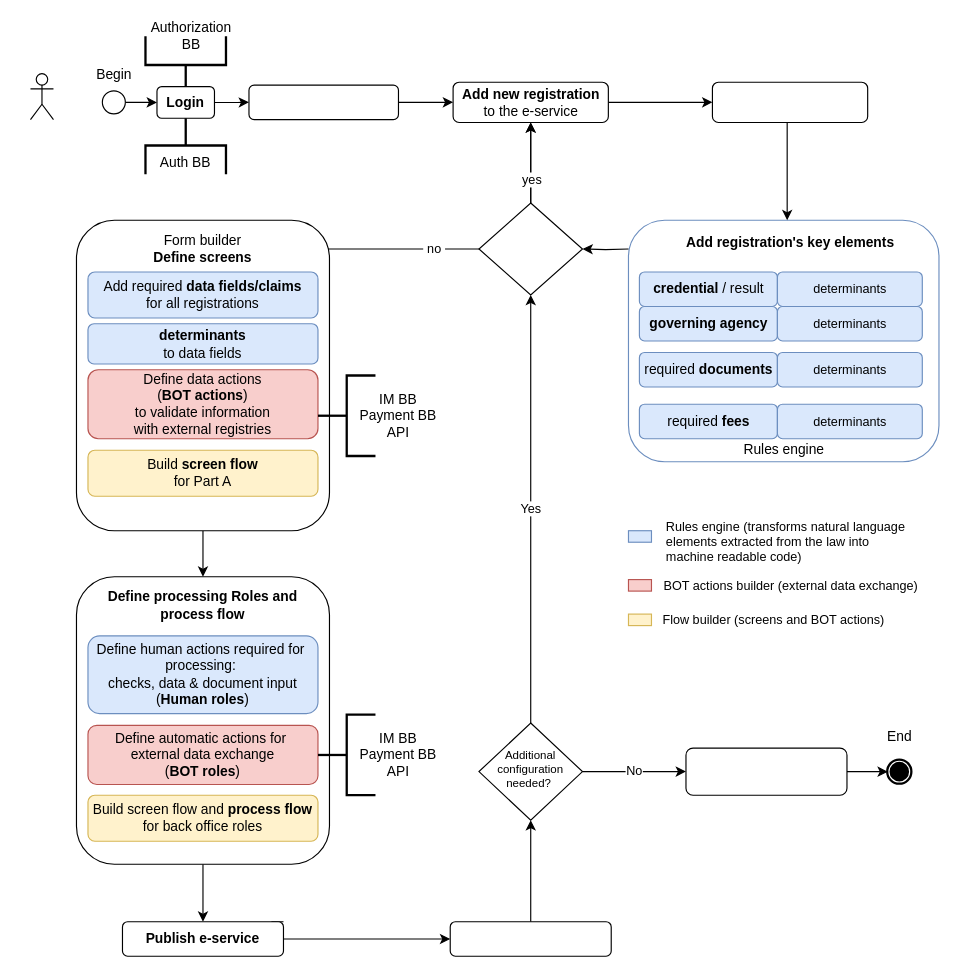
Some shapes in this 959 by 976 pixel diagram are drawn without their labels. The box of each missing label's shape, as (x1, y1, x2, y2) in pixels:
Additional registration needed?: (478, 202, 582, 295)
Analyst: (29, 72, 53, 120)
Configure the registration content: (711, 81, 868, 122)
Create new e-service: (248, 84, 398, 120)
Release e-service to users: (685, 747, 847, 795)
Test e-service: (449, 921, 611, 956)
